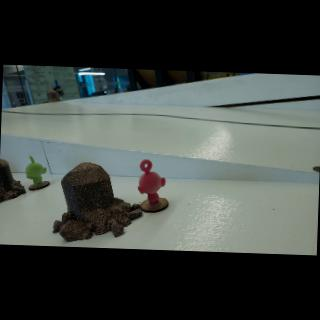teletubby: (138, 160, 165, 205), (25, 156, 47, 187)
